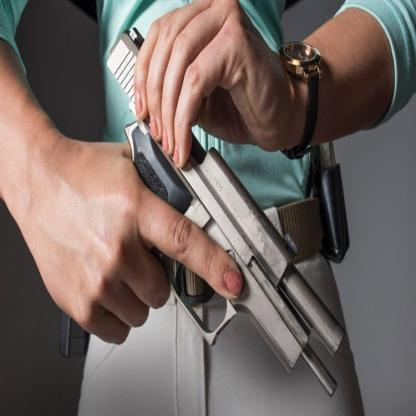Pistol: (105, 26, 345, 395)
